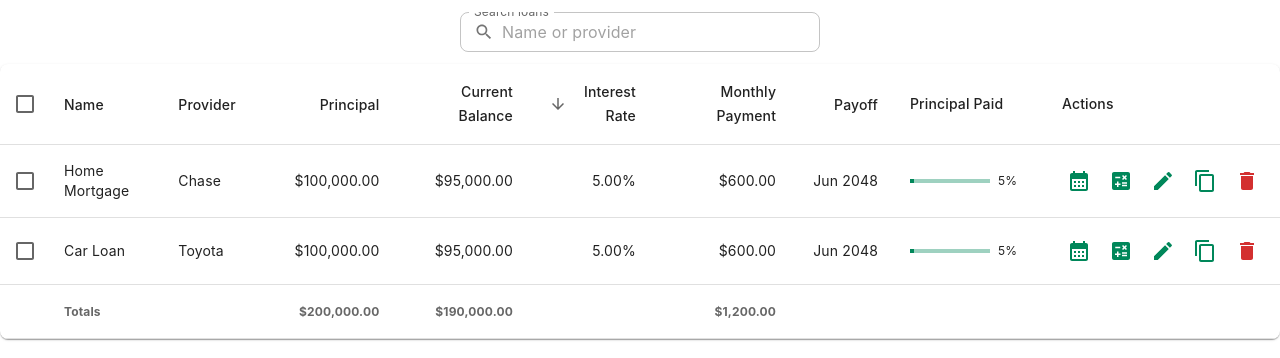
Test: LoanTable (roadmap 6.4) › shows a no-match message when the query matches nothing
Type "zzz" into the field labelled "Search loans" at {"x": 661, "y": 32}, box [502,12,820,52]
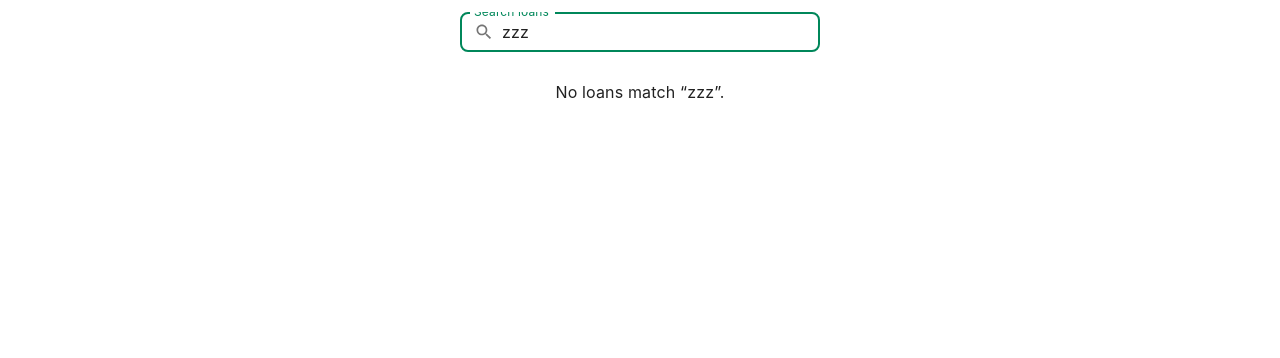
Check: the text "No loans match “zzz”." is shown, box [555,82,725,102]
